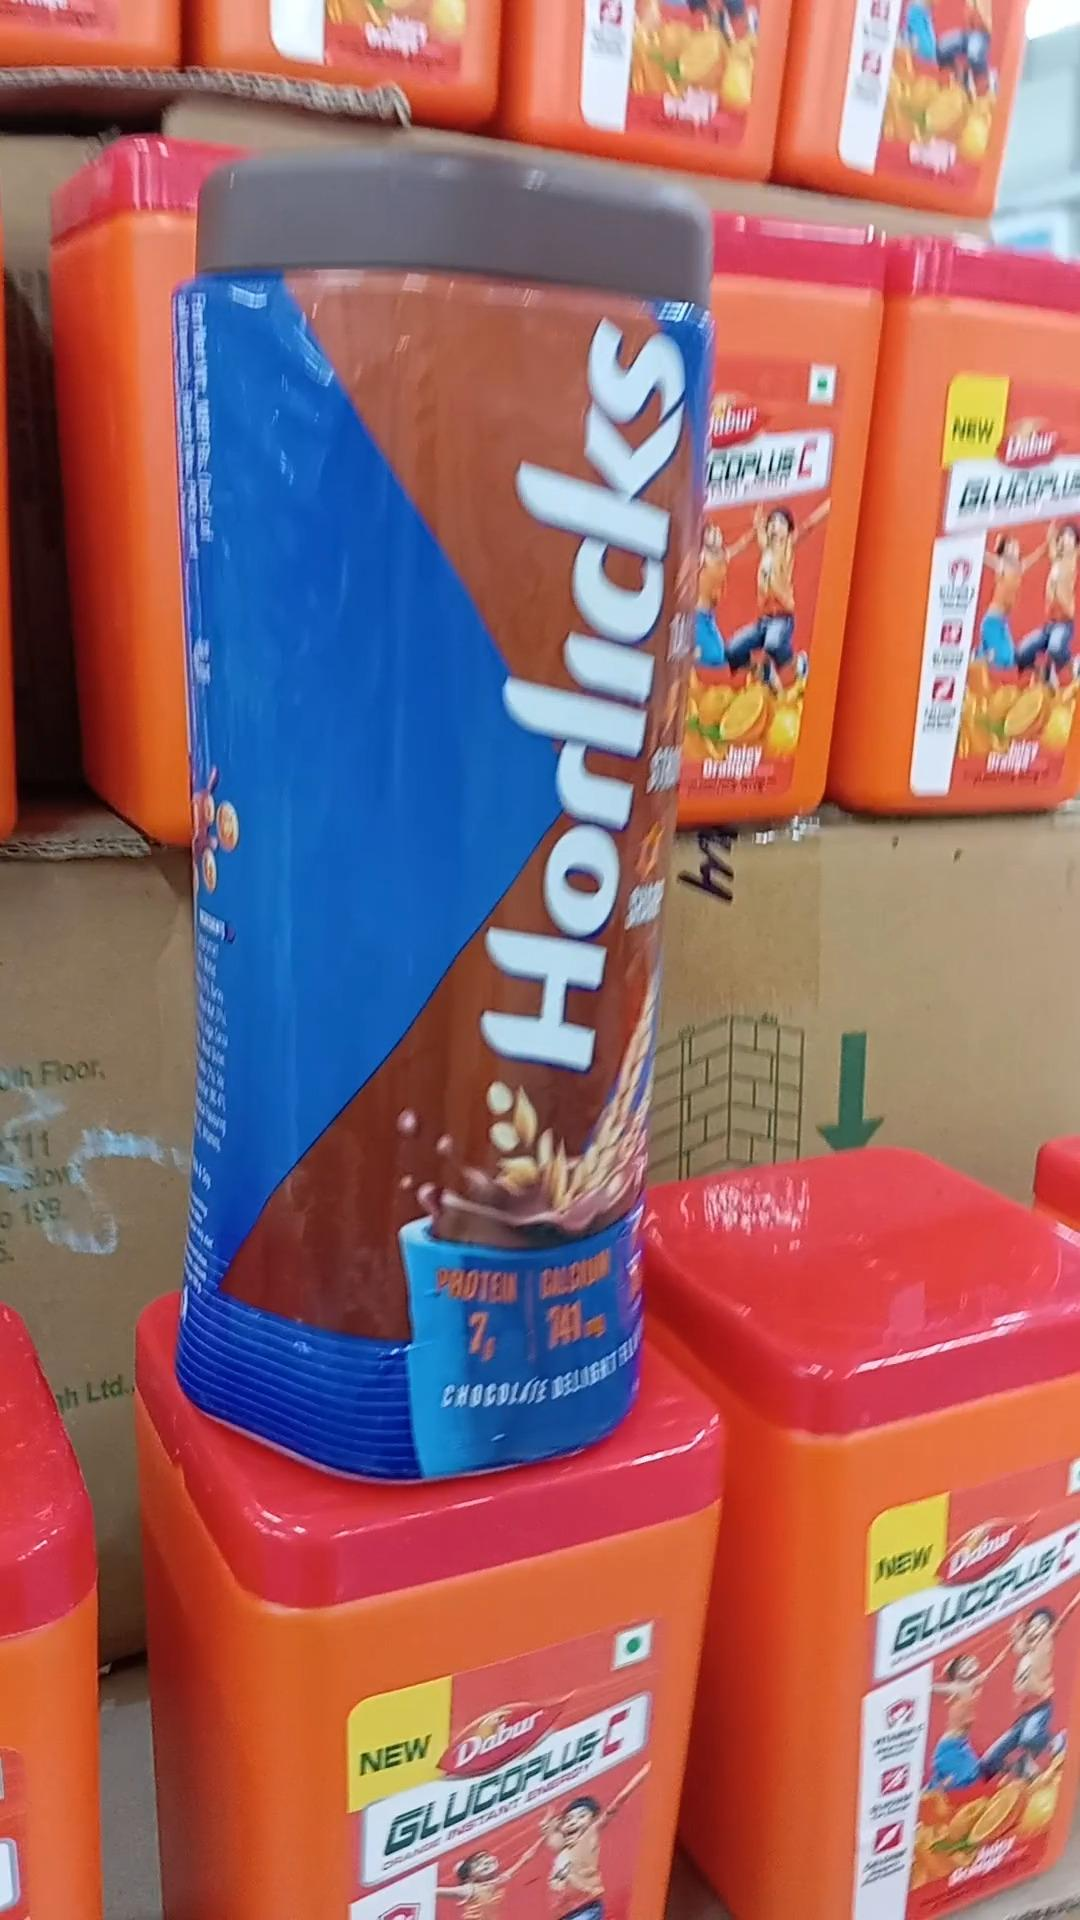HORLICK_CHOCOLATE_1_KG_JAR: (179, 160, 704, 1476)
